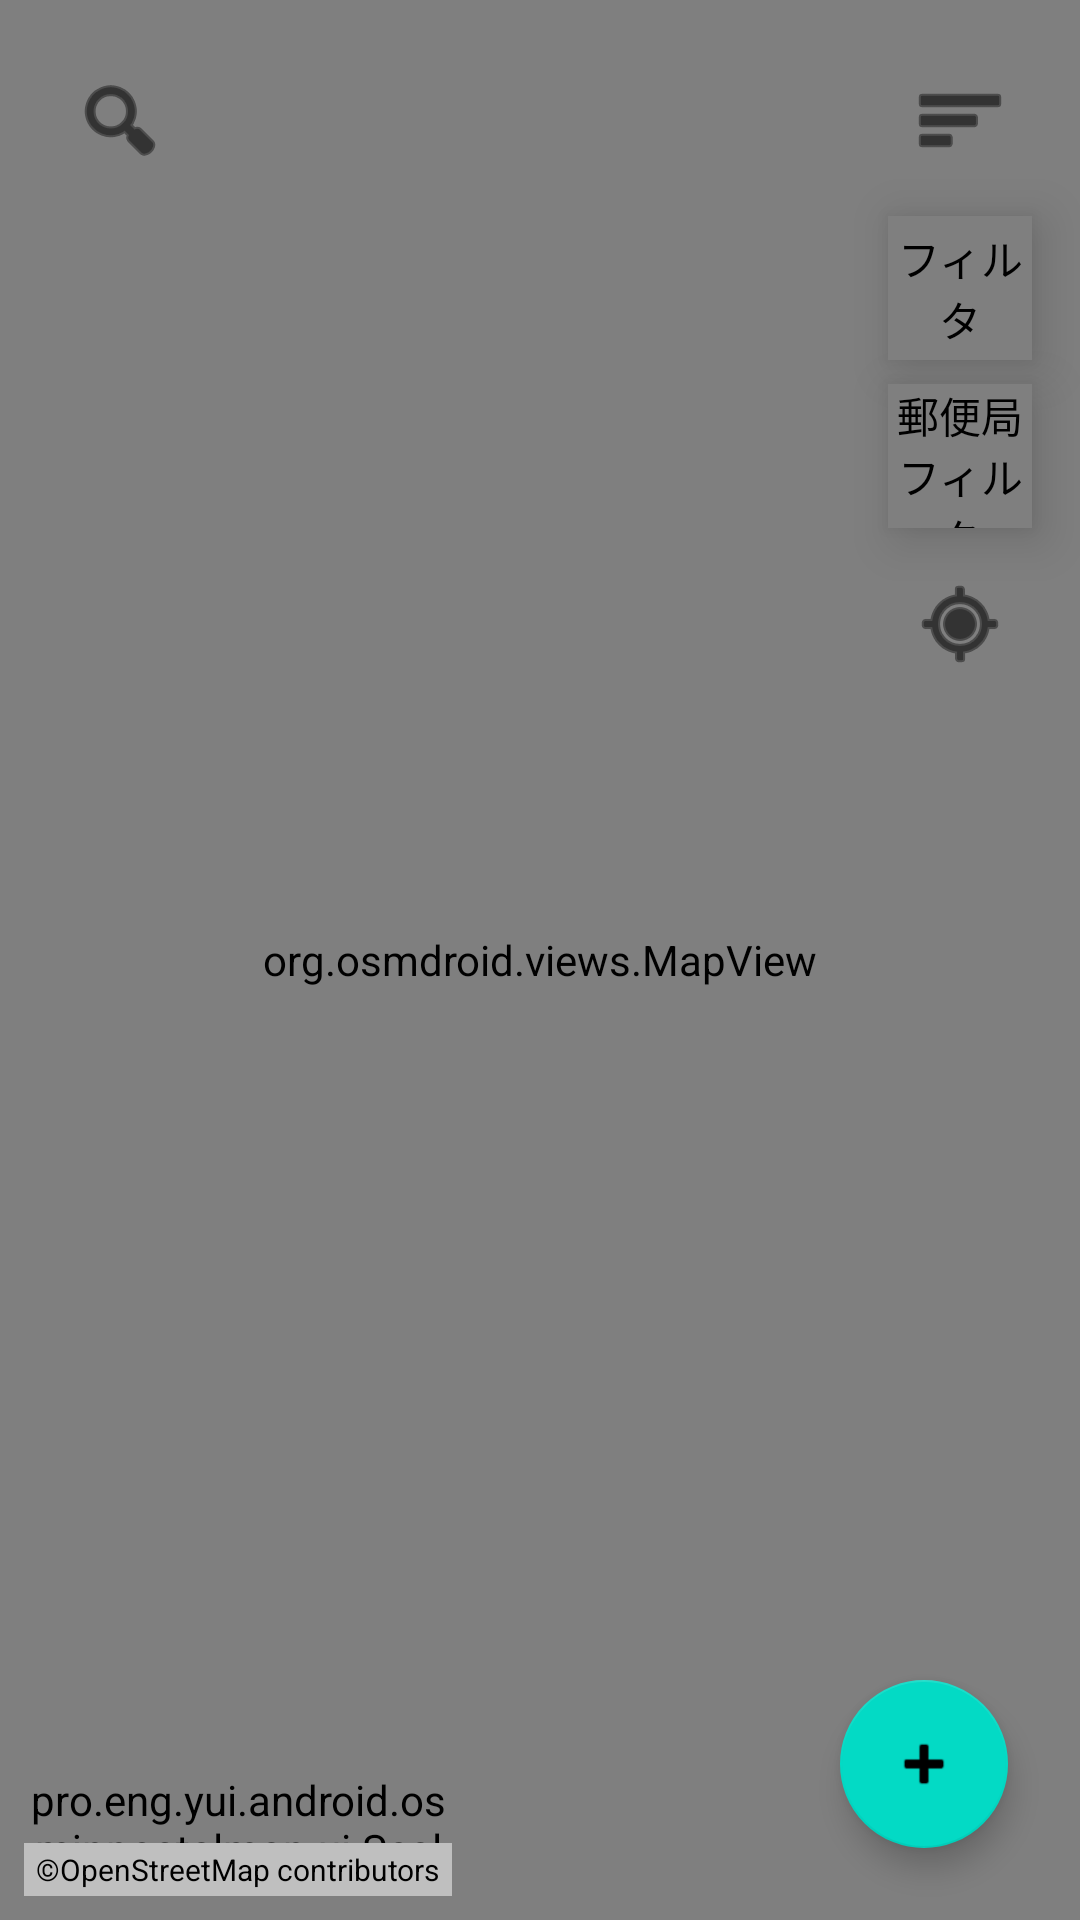

Icon bounding boxes for this 1080px x 1920px phone screenshot, format (x1, y1, x2, y2):
ポスト追加: (840, 1680, 1008, 1848)
検索: (85, 85, 155, 156)
現在地へ移動: (922, 586, 998, 662)
